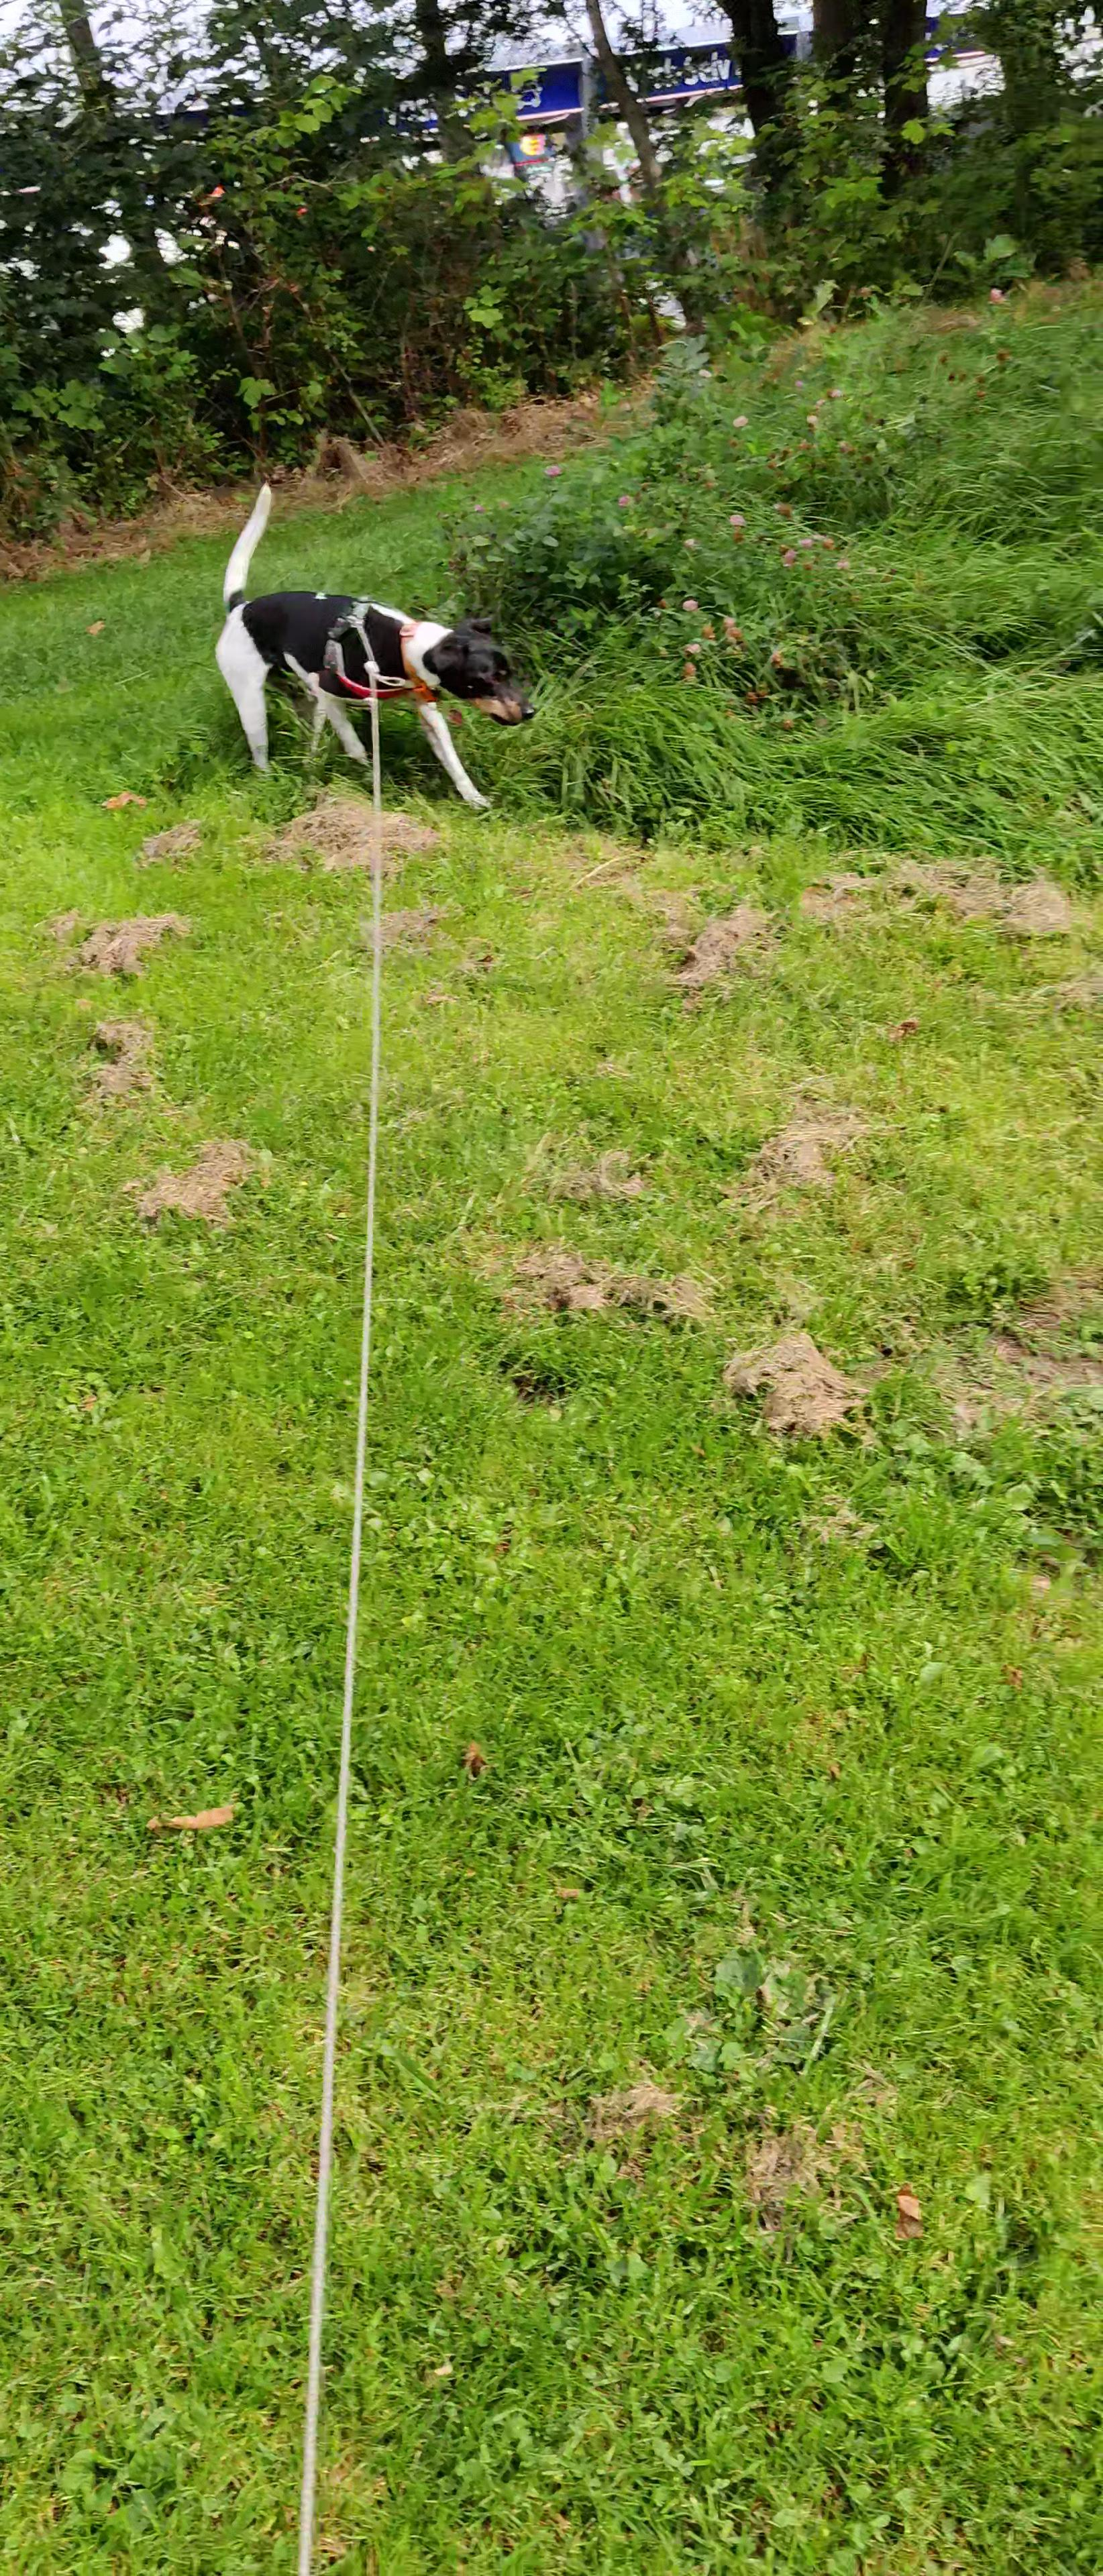Dog: (207, 480, 541, 813)
